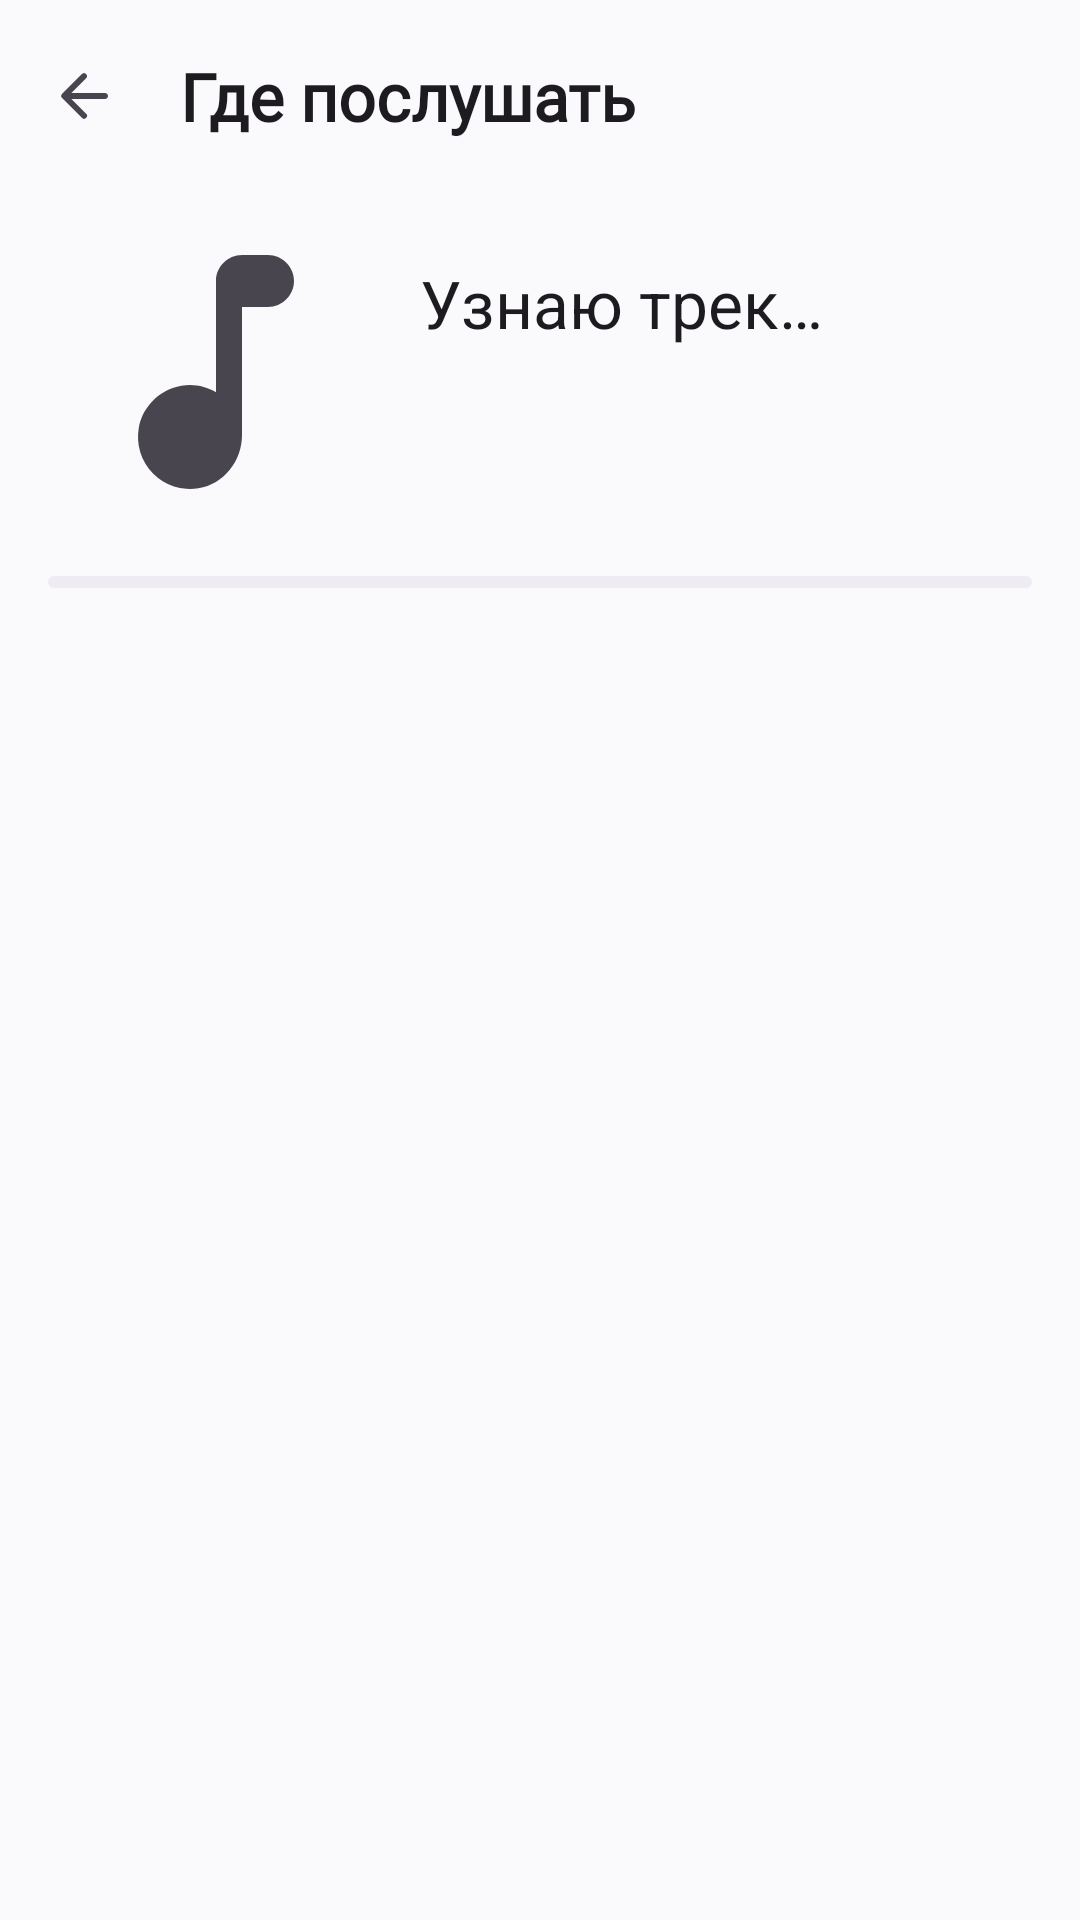

Icon bounding boxes for this 1080×1920 phone screenshot, format (x1, y1, x2, y2):
music note: (138, 255, 294, 489)
